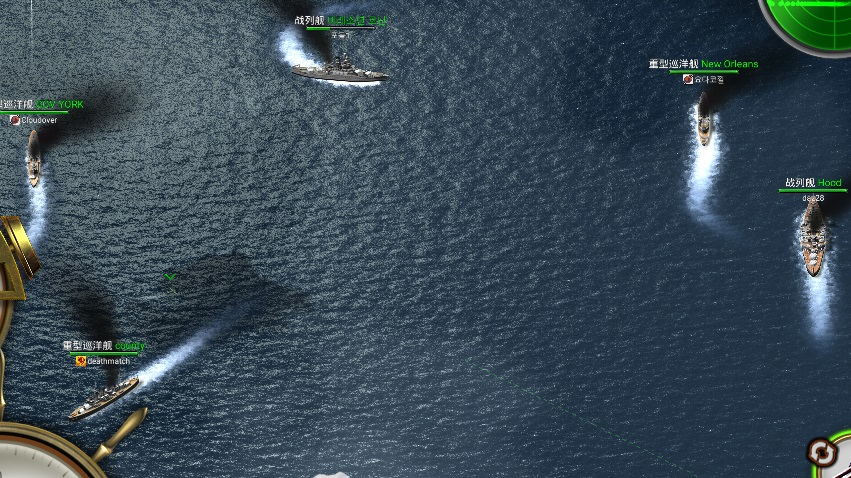ship: (70, 373, 140, 415), (291, 58, 391, 84), (799, 202, 832, 279), (17, 126, 45, 190), (690, 92, 716, 145)
